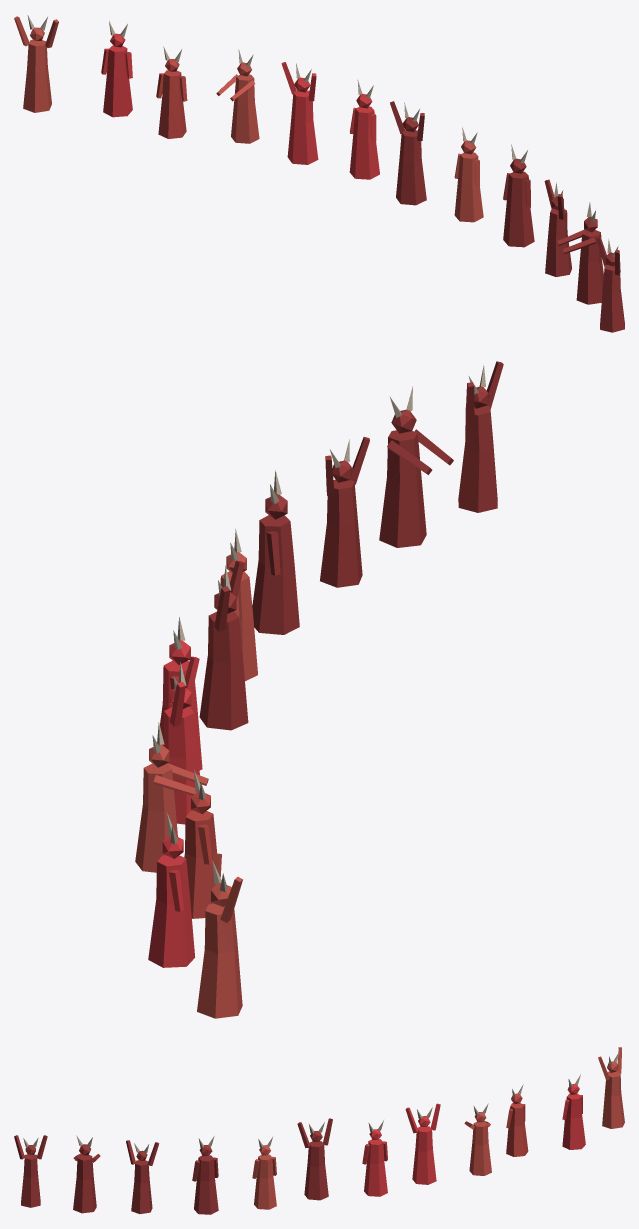
Rendered from Stands_8_1_0.obj.
The picture shows the model from 3 angles, top to bottom: view 1: azimuth 30°, elevation 25°; view 2: azimuth 150°, elevation 25°; view 3: azimuth 270°, elevation 25°; orthographic projection. The views are drawn at different scales.
Visible parts, largest first — view 1: Stands_8_1_0; view 2: Stands_8_1_0; view 3: Stands_8_1_0.
Boxes of the visible parts, x1,y1,x2,y2 form: Stands_8_1_0: [14, 15, 624, 332]; Stands_8_1_0: [135, 361, 503, 1018]; Stands_8_1_0: [14, 1047, 624, 1214].
Bounding box in the file's own units: 11.86 × 4.21 × 31.28.
1 material, 1 textured.
